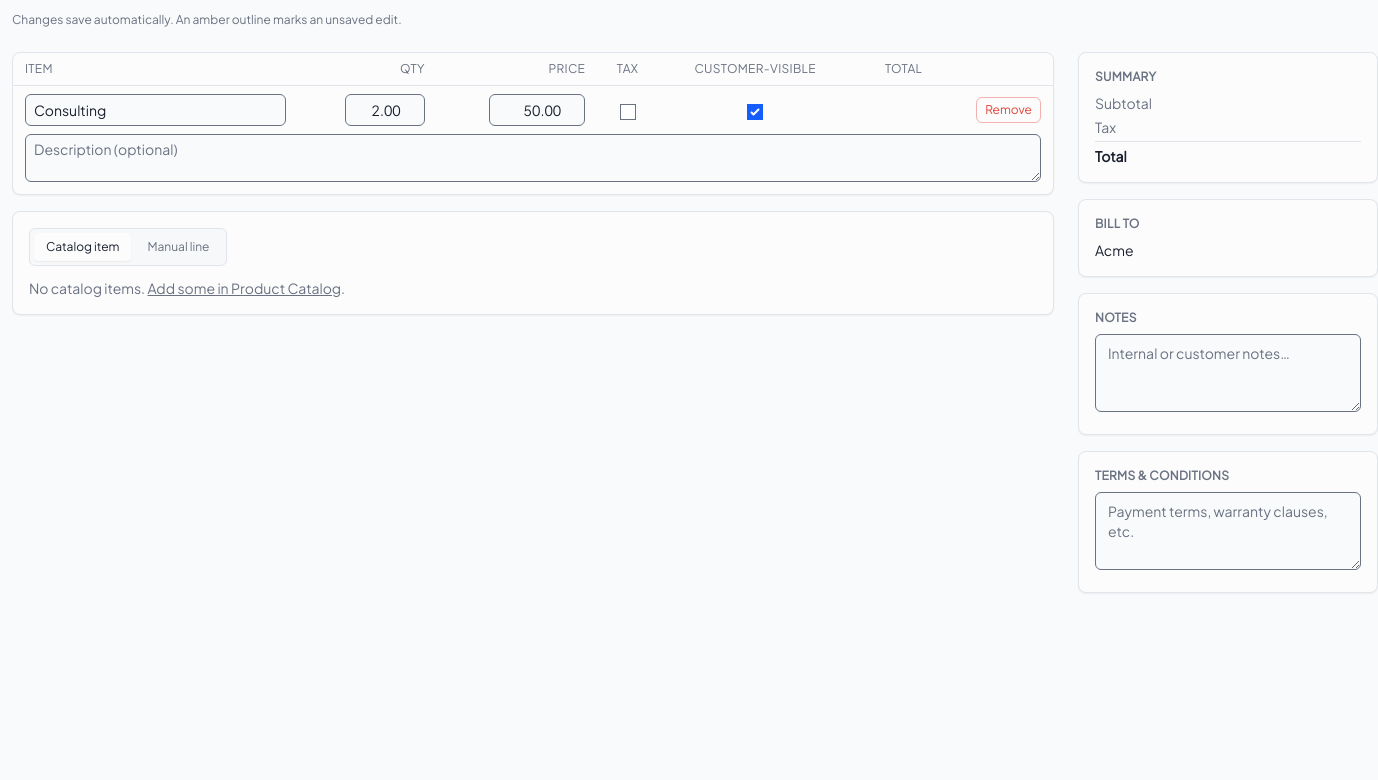
Test: InvoiceEditor — undo-able line deletion › hides the row immediately with an undo toast — the DELETE waits for the grace window
expect the row with test id "invoice-line-line-1" is shown: met, box [13, 86, 1053, 134]
What coordinates should you click on to do the following:
click the button with test id "invoice-line-remove-line-1"
I would click on:
 (1009, 110)
Its box is [976, 97, 1041, 123].
Wait 6000 ms
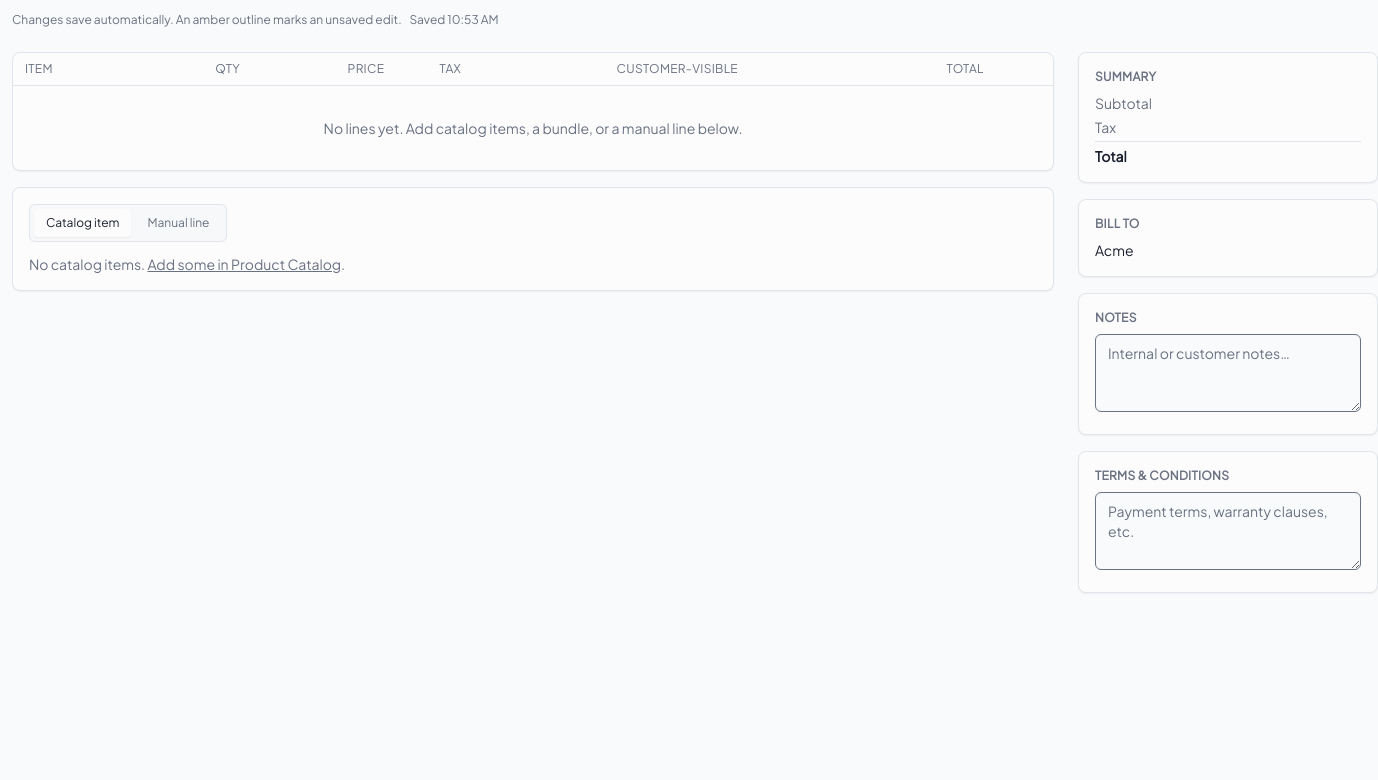
expect the row with test id "invoice-line-line-1" is gone: met
